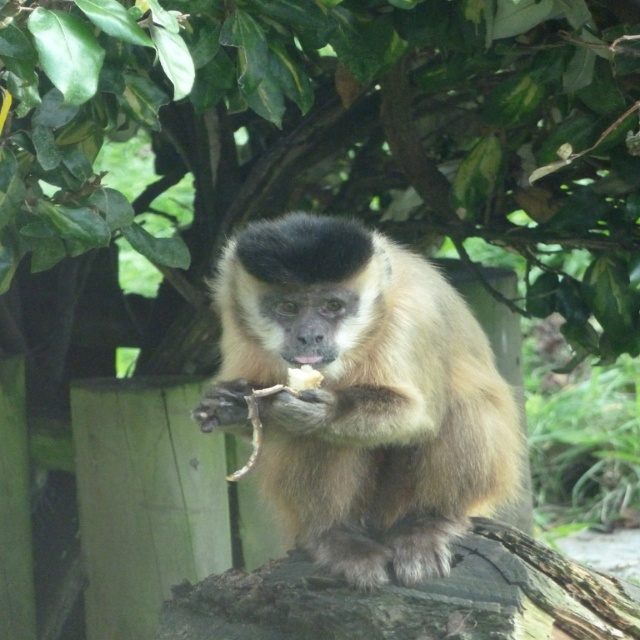Monkey: (189, 208, 549, 593)
